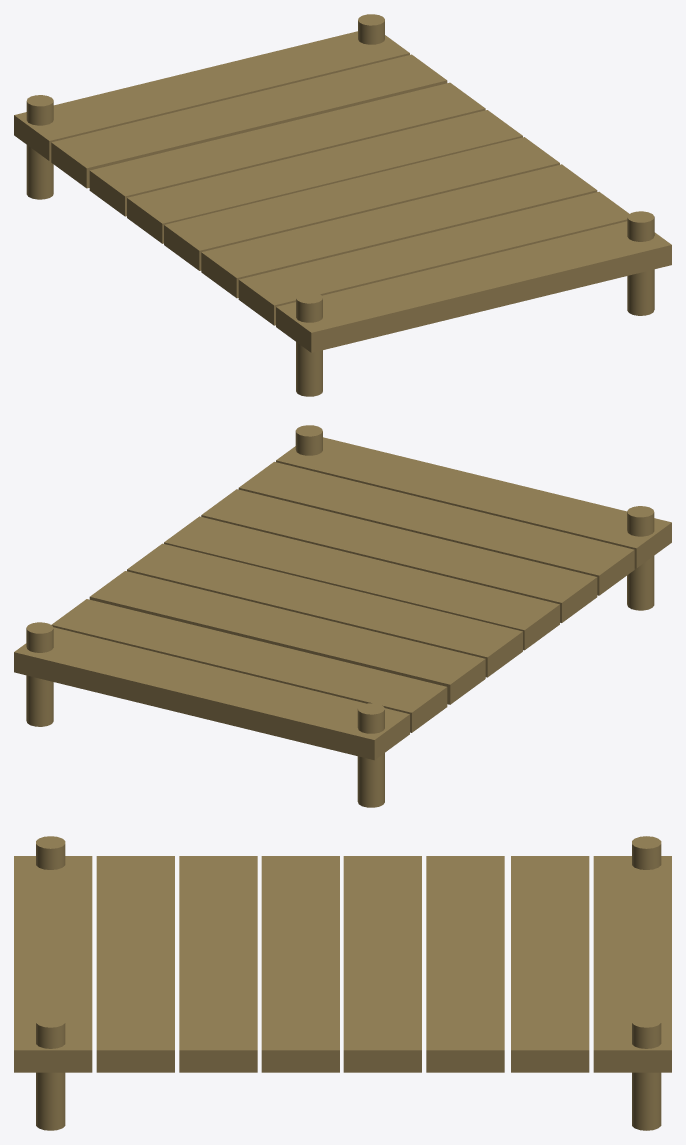
File: fishing_bridge_AK.fbx
The picture shows the model from 3 angles, top to bottom: view 1: azimuth 30°, elevation 25°; view 2: azimuth 150°, elevation 25°; view 3: azimuth 270°, elevation 25°; orthographic projection. The views are drawn at different scales.
Parts seen in each view (by area): view 1: Magical_Bridge_AK3; view 2: Magical_Bridge_AK3; view 3: Magical_Bridge_AK3.
Boxes of the visible parts, <box> form: Magical_Bridge_AK3: <box>14,14,671,396</box>; Magical_Bridge_AK3: <box>14,425,671,807</box>; Magical_Bridge_AK3: <box>14,836,671,1130</box>.
Bounding box in the file's own units: 297 × 73.25 × 424.
